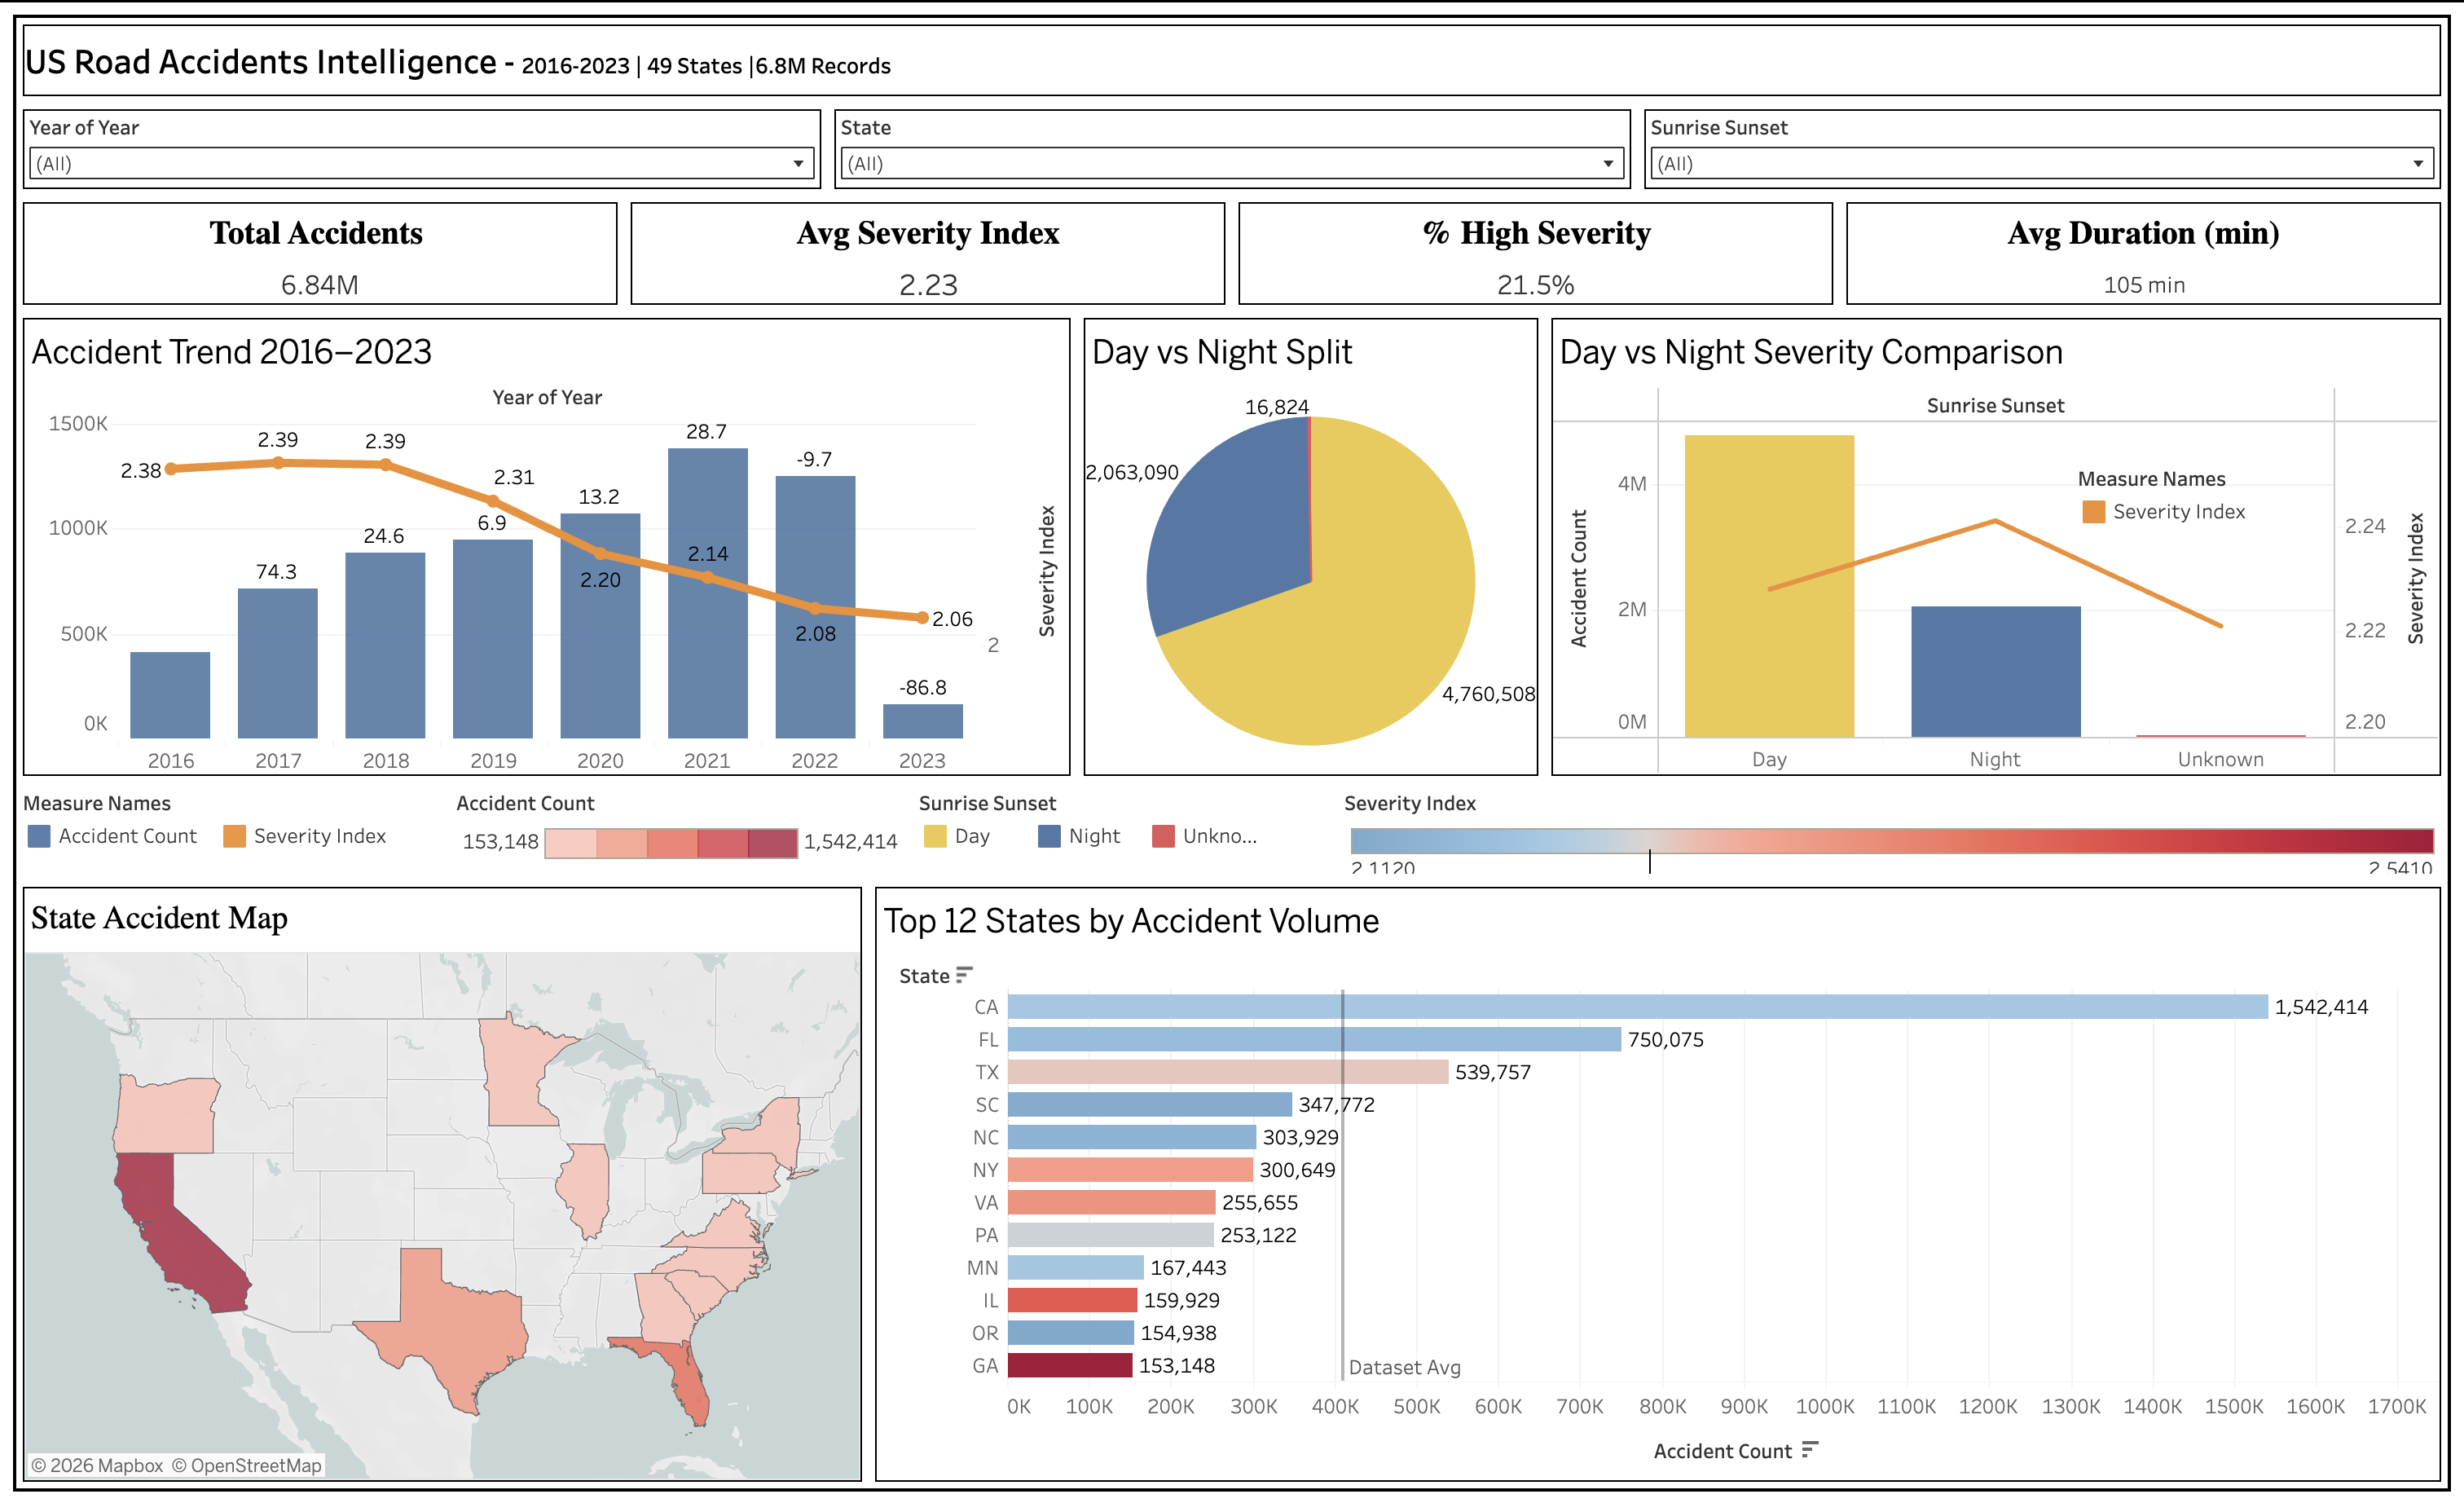

Layout of this report page (visuals, bound fields, positions):
{"tool":"tableau","page":{"name":"Dashboard 1","canvas":[1000,1000],"units":"permille","ordinal":0},"visuals":[{"type":"text","box":[8,11.7,984,60.7]},{"type":"filter","title":"Accident Trend 2016–2023","param":"[federated.1qphlrd0qibmep1a9rqfa0ml78j6].[tyr:year:ok]","box":[8,72.4,328.5,66.5]},{"type":"filter","title":"State Accident Map","param":"[federated.1rsizny1e0a6xs1ficzc109jwz0w].[none:state:nk]","box":[336.5,72.4,327.7,66.5]},{"type":"filter","title":"Day vs Night Split","param":"[federated.1u1iwsq03y8dj317zwh4e16tnejo].[none:sunrise_sunset:nk]","box":[664.3,72.4,327.7,66.5]},{"type":"worksheet","title":"Total Accidents ","mark":"Automatic","box":[8,138.9,246.2,82.8]},{"type":"worksheet","title":"Avg Severity Index","mark":"Automatic","box":[254.2,138.9,246.2,82.8]},{"type":"worksheet","title":"% High Severity","mark":"Automatic","box":[500.4,138.9,246.2,82.8]},{"type":"worksheet","title":"Avg Duration (min)","mark":"Automatic","box":[746.6,138.9,245.4,82.8]},{"type":"worksheet","title":"Accident Trend 2016–2023","mark":"Automatic","rows":["accident_count","severity_index"],"cols":["year"],"box":[8,221.7,429.2,337.2]},{"type":"worksheet","title":"Day vs Night Split","mark":"Pie","box":[437.2,221.7,229.4,337.2]},{"type":"worksheet","title":"Day vs Night Severity Comparison","mark":"Bar","rows":["accident_count","severity_index"],"cols":["sunrise_sunset"],"box":[666.6,221.7,325.4,337.2]},{"type":"legend","title":"Day vs Night Severity Comparison","param":"[federated.1u1iwsq03y8dj317zwh4e16tnejo].[:Measure Names]","box":[843.3,308.1,111.9,44.3]},{"type":"legend","title":"Accident Trend 2016–2023","param":"[federated.1qphlrd0qibmep1a9rqfa0ml78j6].[:Measure Names]","box":[8,558.9,212.6,70]},{"type":"legend","title":"State Accident Map","param":"[federated.1rsizny1e0a6xs1ficzc109jwz0w].[sum:accident_count:qk]","box":[220.6,558.9,227,70]},{"type":"legend","title":"Day vs Night Split","param":"[federated.1u1iwsq03y8dj317zwh4e16tnejo].[none:sunrise_sunset:nk]","box":[447.6,558.9,208.6,70]},{"type":"legend","title":"Top 12 States by Volume","param":"[federated.1rsizny1e0a6xs1ficzc109jwz0w].[sum:severity_index:qk]","box":[656.3,558.9,335.8,70]},{"type":"worksheet","title":"State Accident Map","mark":"Automatic","box":[8,628.9,418.1,359.4]},{"type":"worksheet","title":"Top 12 States by Volume","mark":"Automatic","rows":["state"],"cols":["accident_count"],"box":[426.1,628.9,566,359.4]}]}

Visuals, with their boxes on the dashboard's canvas, which has no fixed pixel size, in thousandths of its width and height (x1, y1, x2, y2). These are canvas units, not pixel positions in the 2464x1503 screenshot, which may show the page scaled, cropped or inside an application window:
text: <bbox>8, 12, 992, 72</bbox>
"Accident Trend 2016–2023" filter: <bbox>8, 72, 336, 139</bbox>
"State Accident Map" filter: <bbox>336, 72, 664, 139</bbox>
"Day vs Night Split" filter: <bbox>664, 72, 992, 139</bbox>
"Total Accidents " worksheet: <bbox>8, 139, 254, 222</bbox>
"Avg Severity Index" worksheet: <bbox>254, 139, 500, 222</bbox>
"% High Severity" worksheet: <bbox>500, 139, 747, 222</bbox>
"Avg Duration (min)" worksheet: <bbox>747, 139, 992, 222</bbox>
"Accident Trend 2016–2023" worksheet: <bbox>8, 222, 437, 559</bbox>
"Day vs Night Split" worksheet (Pie marks): <bbox>437, 222, 667, 559</bbox>
"Day vs Night Severity Comparison" worksheet (Bar marks): <bbox>667, 222, 992, 559</bbox>
"Day vs Night Severity Comparison" legend: <bbox>843, 308, 955, 352</bbox>
"Accident Trend 2016–2023" legend: <bbox>8, 559, 221, 629</bbox>
"State Accident Map" legend: <bbox>221, 559, 448, 629</bbox>
"Day vs Night Split" legend: <bbox>448, 559, 656, 629</bbox>
"Top 12 States by Volume" legend: <bbox>656, 559, 992, 629</bbox>
"State Accident Map" worksheet: <bbox>8, 629, 426, 988</bbox>
"Top 12 States by Volume" worksheet: <bbox>426, 629, 992, 988</bbox>
